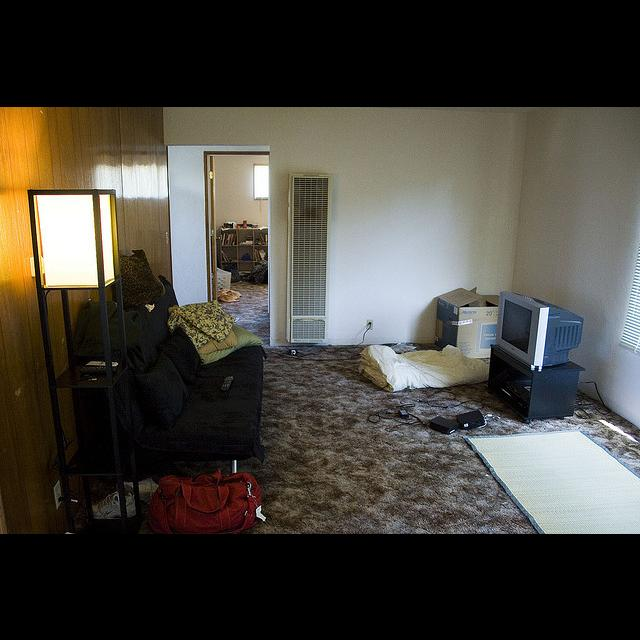TV-Remote-Control: (220, 375, 233, 389)
